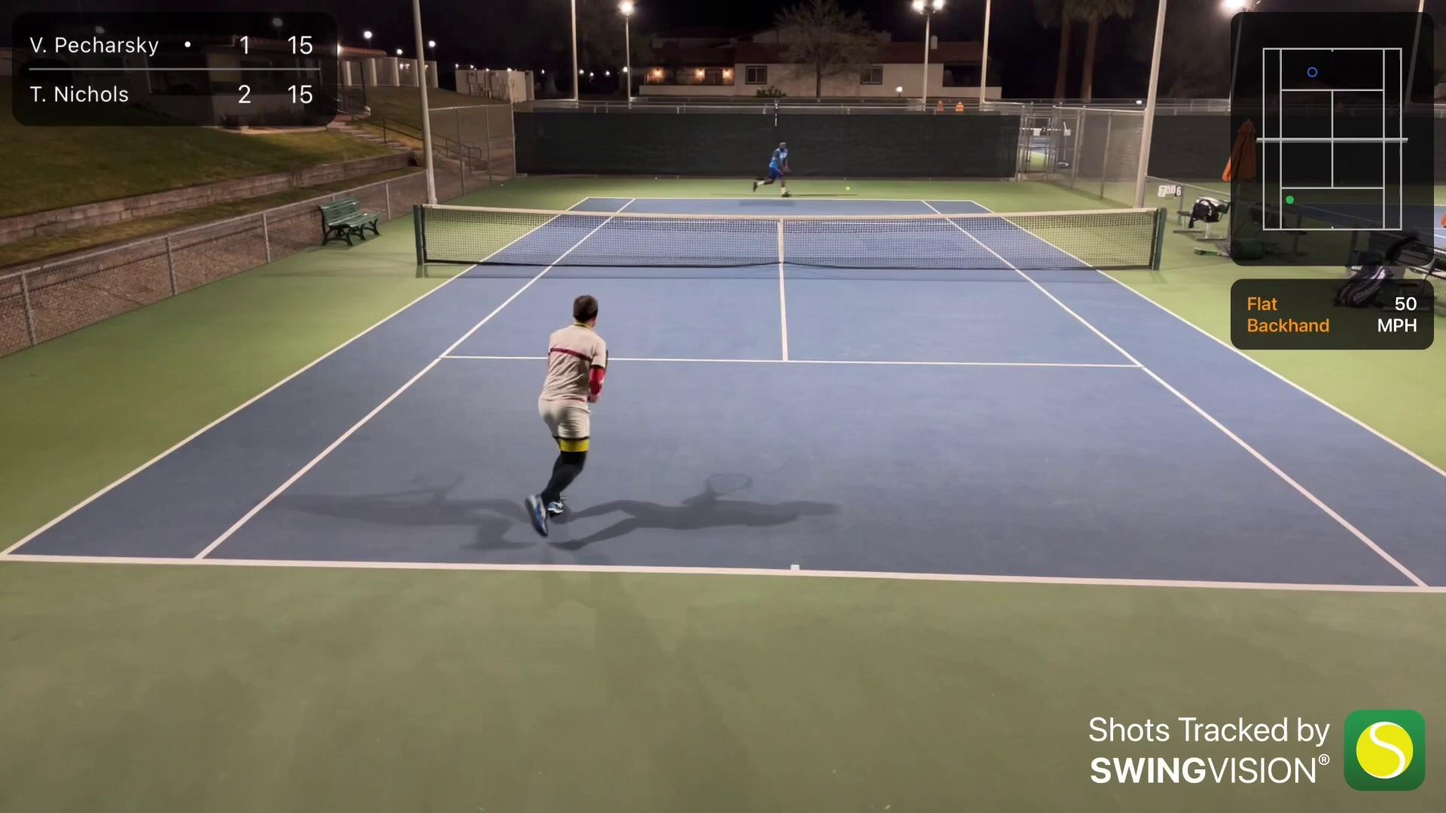ball: (845, 185, 851, 192)
